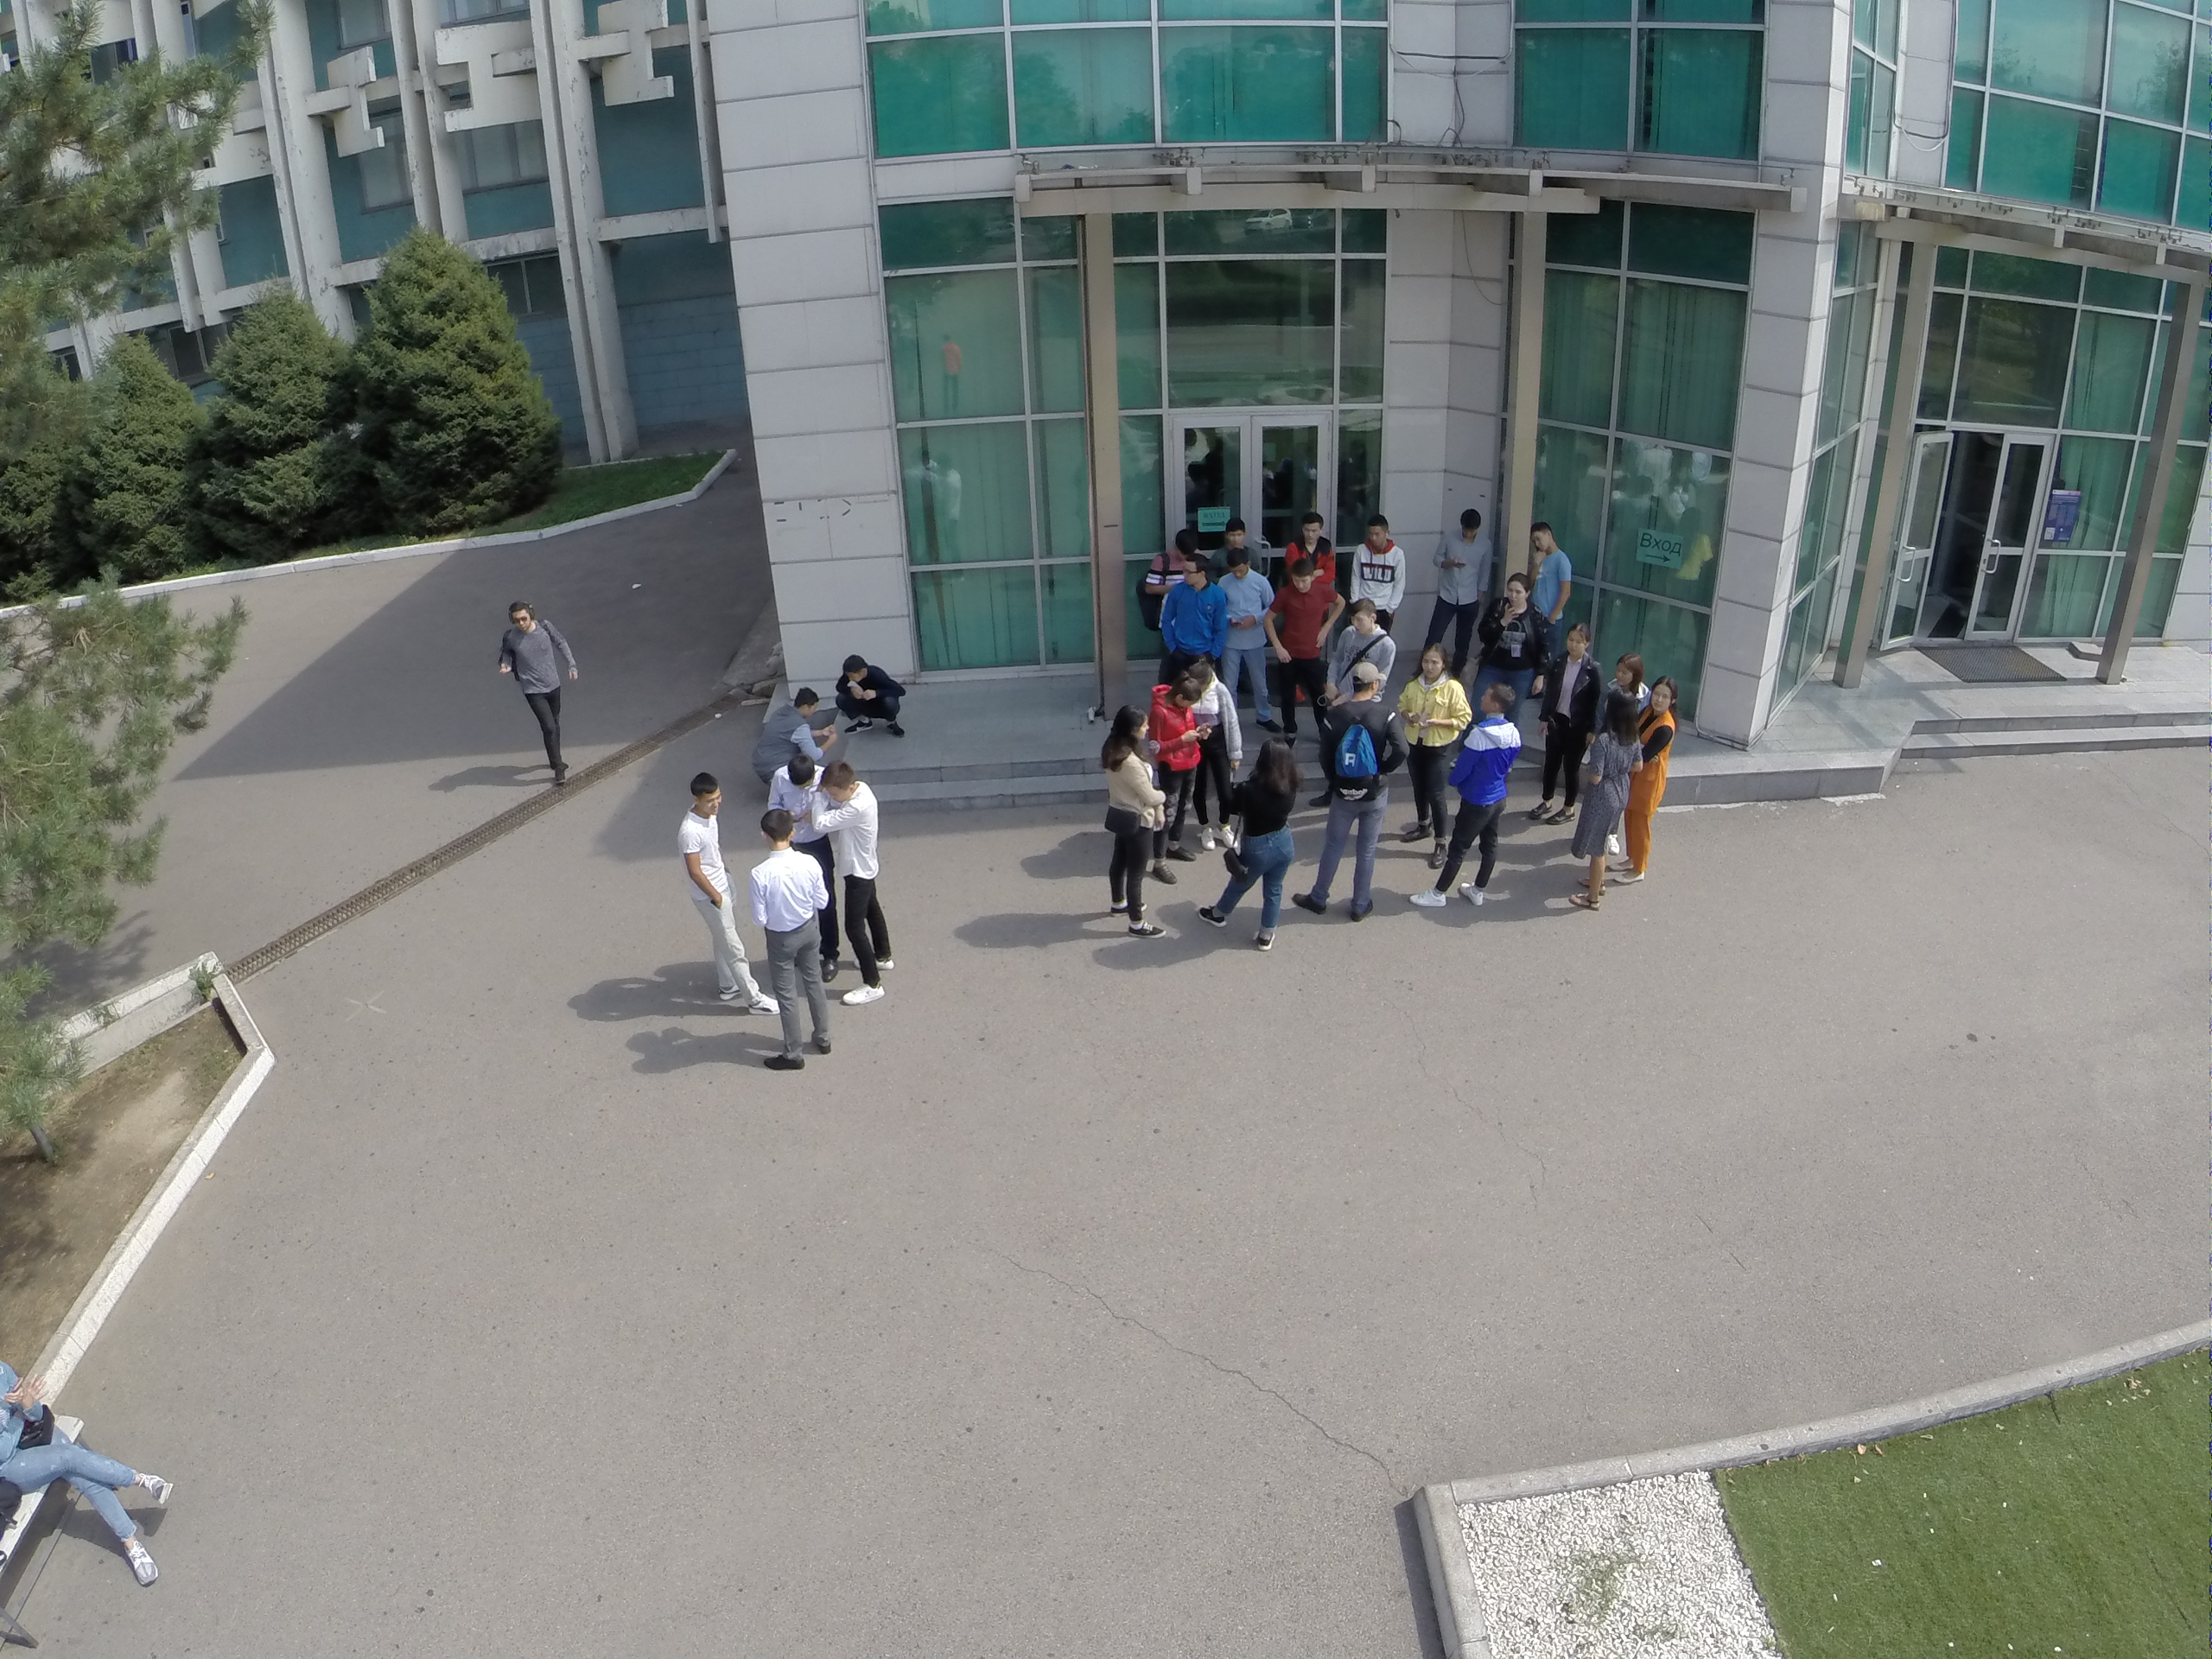person: (1299, 660, 1402, 923), (1421, 677, 1528, 930), (1202, 740, 1306, 955), (674, 771, 763, 1017), (751, 811, 835, 1074), (819, 746, 893, 1025), (483, 601, 585, 783), (1618, 668, 1690, 894), (1097, 693, 1160, 947), (1573, 693, 1643, 914), (1407, 641, 1470, 851), (1151, 672, 1208, 886), (1540, 612, 1596, 830), (1270, 561, 1344, 720), (1216, 553, 1277, 721), (1478, 569, 1550, 706), (1433, 507, 1490, 652), (830, 652, 910, 741), (1164, 559, 1228, 664), (759, 679, 830, 763), (1348, 504, 1402, 607), (1525, 518, 1575, 624), (760, 751, 817, 829), (1286, 505, 1333, 562), (1602, 648, 1647, 698), (1213, 520, 1251, 552)
